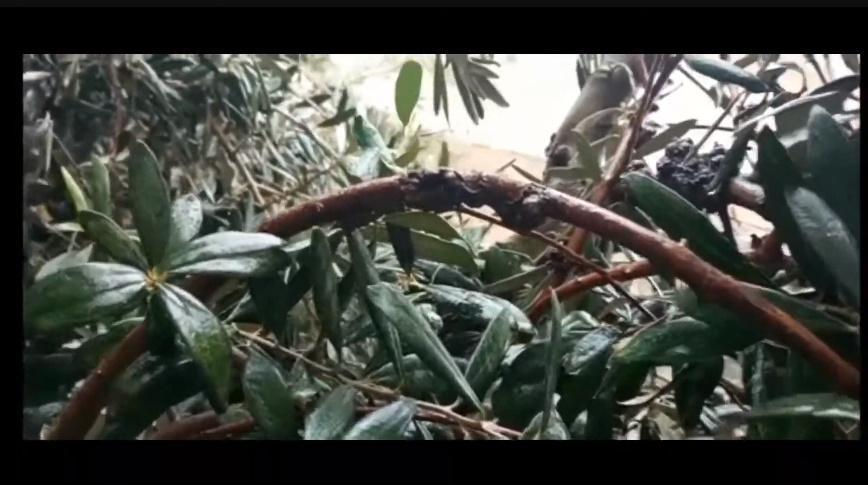Tuberculosis: (392, 162, 555, 238)
